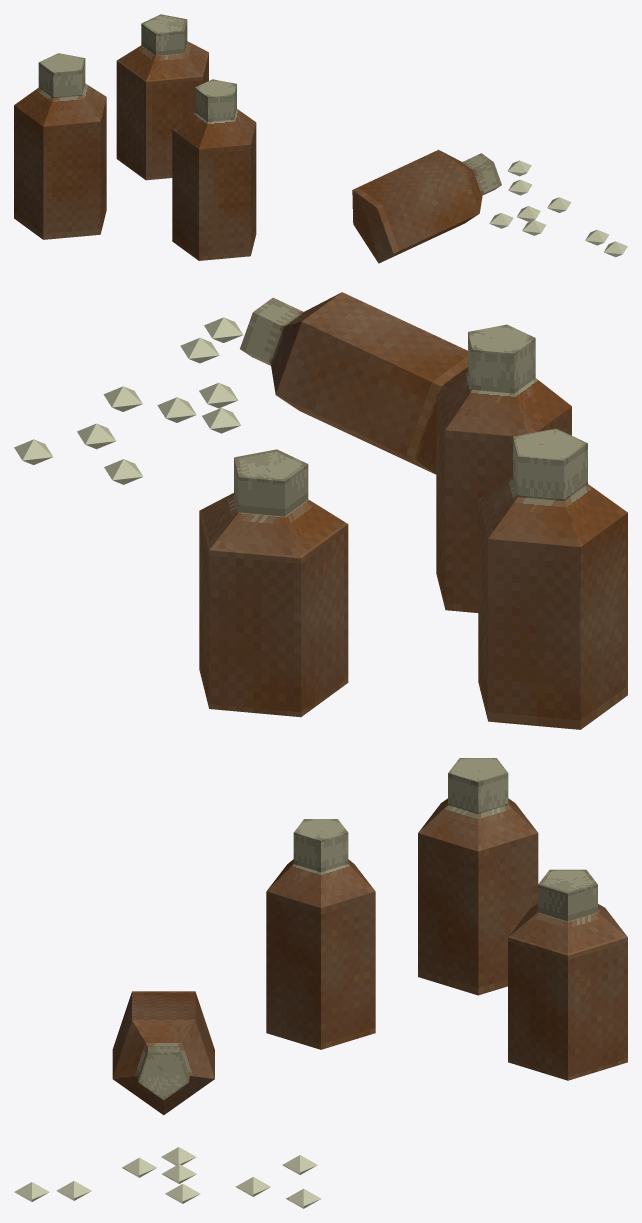
The model's file is Pill_Bottles_01.glb.
3 renders of one model, top to bottom at view 1: azimuth 30°, elevation 25°; view 2: azimuth 150°, elevation 25°; view 3: azimuth 270°, elevation 25°, orthographic. The views are drawn at different scales.
Parts seen in each view (by area): view 1: Pill_Bottles_01; view 2: Pill_Bottles_01; view 3: Pill_Bottles_01.
Part boxes in pixels (x1,y1,x2,y2): Pill_Bottles_01: (14,14,627,263); Pill_Bottles_01: (14,292,627,729); Pill_Bottles_01: (14,758,627,1208).
Bounding box in the file's own units: 0.2839 × 0.0982 × 0.2734.
1 material, 1 textured.
